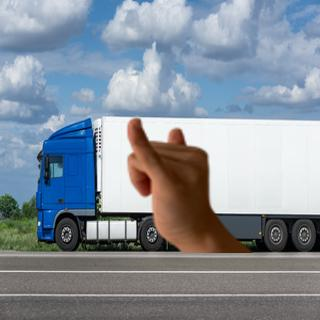HAVE: (108, 111, 228, 244)
